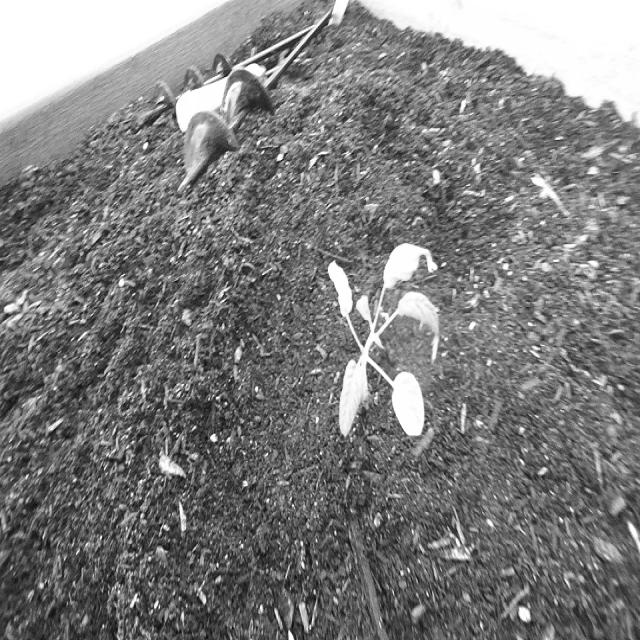Healthy: (324, 237, 445, 458)
